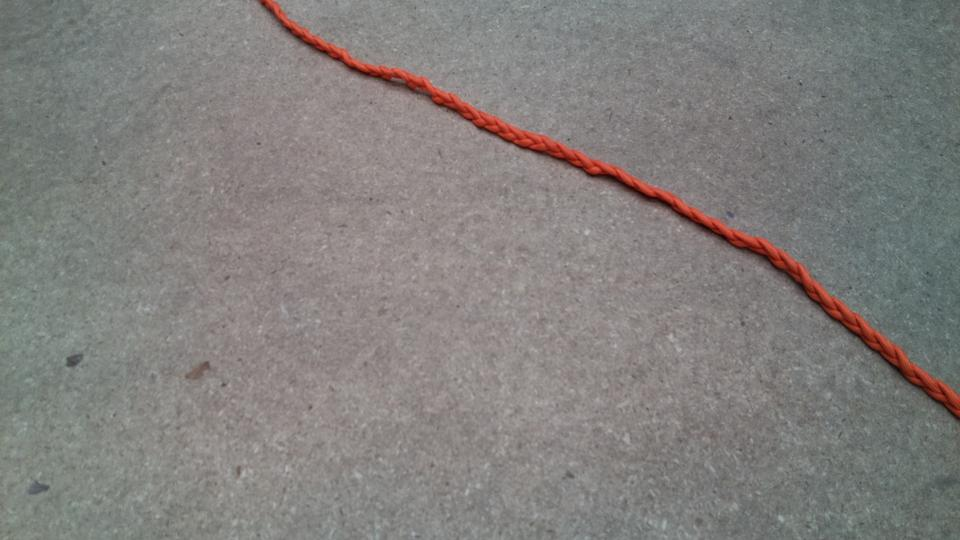rope: (276, 1, 960, 402)
